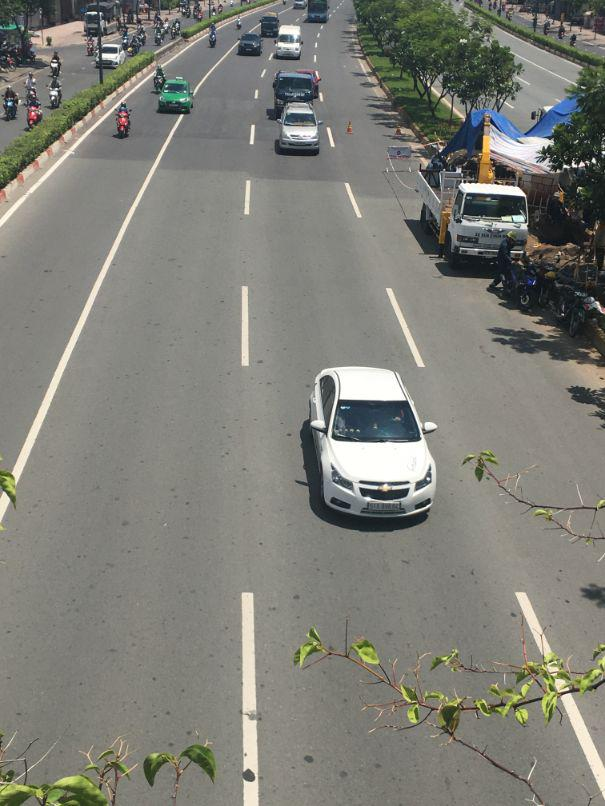car: (298, 367, 438, 528), (278, 106, 320, 156), (157, 75, 194, 113), (273, 26, 303, 62), (98, 43, 125, 69), (238, 32, 263, 56)
motorbike: (26, 104, 41, 128)
truck: (414, 157, 529, 271), (271, 69, 321, 121), (306, 1, 329, 25)
